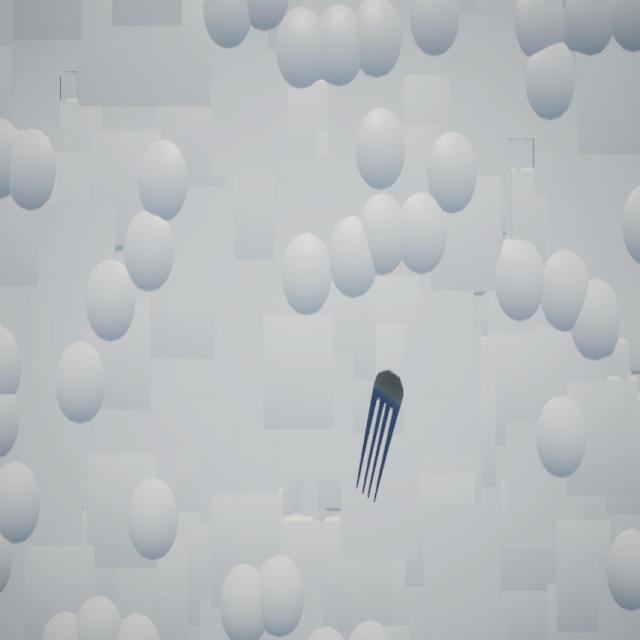top_folk: (357, 370, 405, 504)
